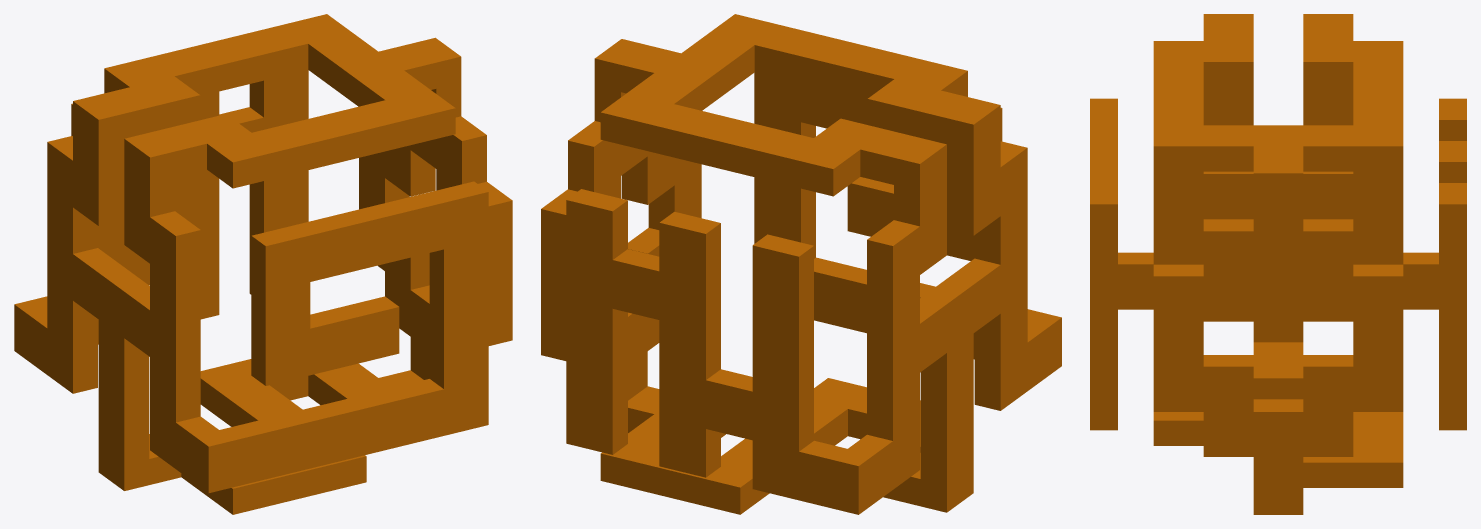
File: Bloc05_actif.FBX
3 views of the same model, side by side, from view 1: azimuth 30°, elevation 25°; view 2: azimuth 150°, elevation 25°; view 3: azimuth 270°, elevation 25° (orthographic). The views are drawn at different scales.
Parts seen in each view (by area): view 1: Bloc_05_actif; view 2: Bloc_05_actif; view 3: Bloc_05_actif.
Boxes of the visible parts, x1,y1,x2,y2 form: Bloc_05_actif: [14, 14, 512, 514]; Bloc_05_actif: [541, 14, 1061, 514]; Bloc_05_actif: [1090, 14, 1466, 514].
Bounding box in the file's own units: 108 × 108 × 108.
